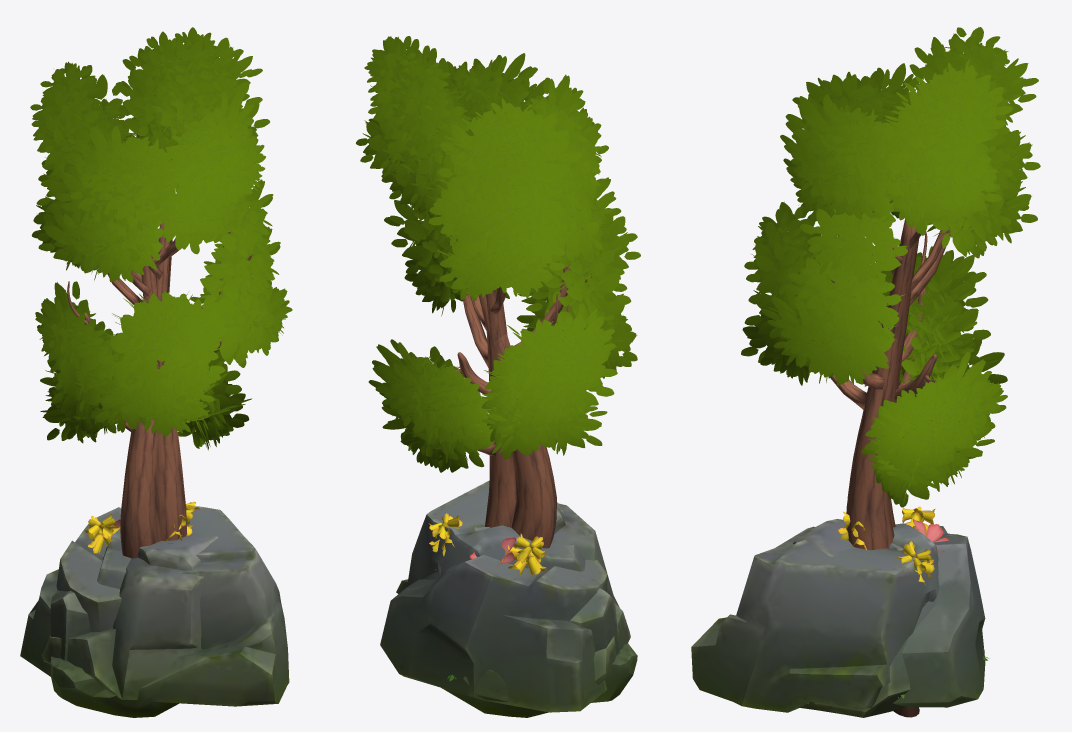
The model's file is kit-nature.glb.
The picture shows the model from 3 angles, left to right: view 1: azimuth 30°, elevation 25°; view 2: azimuth 150°, elevation 25°; view 3: azimuth 270°, elevation 25°; orthographic projection. The views are drawn at different scales.
Visible parts, largest first — view 1: CommonTree_3, CommonTree_4, Rock_Medium_3, Rock_Medium_1, Rock_Medium_2, Flower_4_Group; view 2: CommonTree_3, CommonTree_4, Rock_Medium_2, Rock_Medium_3, Rock_Medium_1, Flower_4_Group; view 3: CommonTree_3, CommonTree_4, Rock_Medium_3, Rock_Medium_2, Rock_Medium_1, Flower_4_Group.
Part boxes in pixels (x1,y1,x2,y2): CommonTree_3: [30, 31, 292, 540]; CommonTree_4: [38, 27, 273, 558]; Rock_Medium_3: [50, 506, 289, 717]; Rock_Medium_1: [41, 535, 218, 699]; Rock_Medium_2: [20, 507, 121, 676]; Flower_4_Group: [85, 501, 199, 553]; CommonTree_3: [368, 45, 640, 527]; CommonTree_4: [356, 36, 608, 548]; Rock_Medium_2: [380, 555, 607, 712]; Rock_Medium_3: [396, 480, 637, 702]; Rock_Medium_1: [409, 503, 630, 717]; Flower_4_Group: [428, 513, 546, 576]; CommonTree_3: [741, 44, 1037, 717]; CommonTree_4: [780, 27, 1040, 717]; Rock_Medium_3: [691, 523, 939, 712]; Rock_Medium_2: [893, 526, 985, 707]; Rock_Medium_1: [776, 519, 984, 717]; Flower_4_Group: [838, 506, 935, 603].
Bounding box in the file's own units: 4.06 × 9.51 × 4.67.
8 materials, 8 textured.
